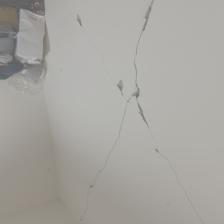Medium: (99, 8, 198, 210)
